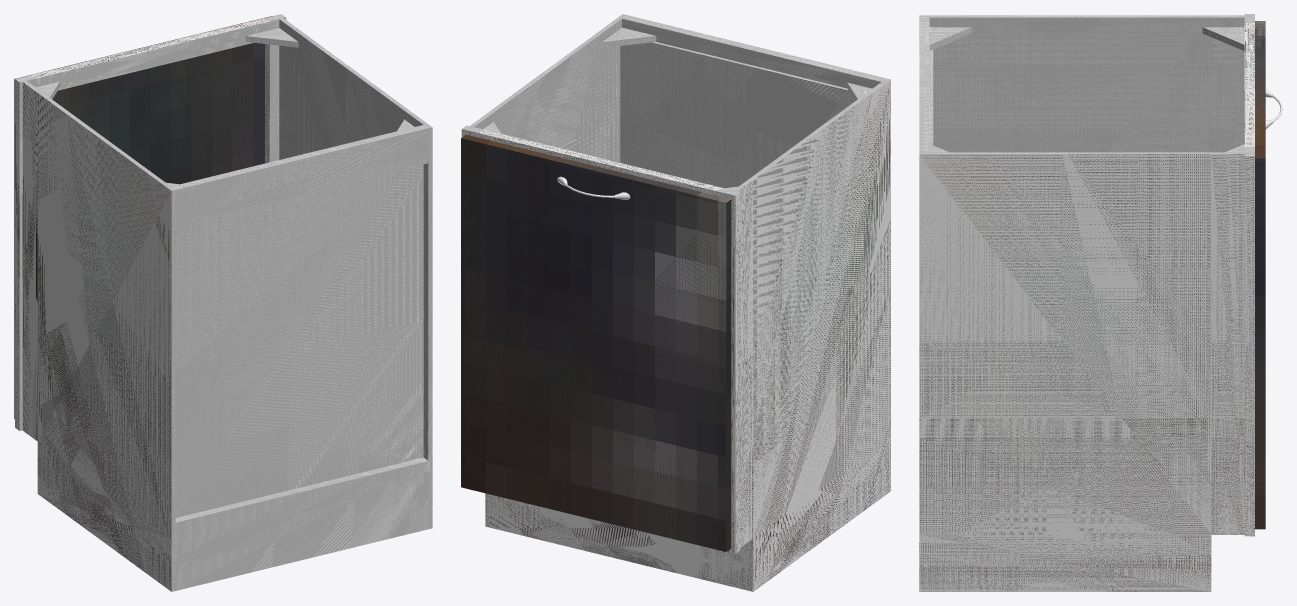
3 renders of one model, left to right at view 1: azimuth 30°, elevation 25°; view 2: azimuth 150°, elevation 25°; view 3: azimuth 270°, elevation 25°, orthographic. The views are drawn at different scales.
Visible parts, largest first — view 1: mesh9_mesh9-geometry, mesh4_mesh4-geometry, mesh18_mesh18-geometry, mesh10_mesh10-geometry, mesh12_mesh12-geometry, mesh17_mesh17-geometry, mesh5_mesh5-geometry, mesh3_mesh3-geometry, mesh2_mesh2-geometry, mesh1_mesh1-geometry, mesh11_mesh11-geometry, mesh6_mesh6-geometry; view 2: mesh18_mesh18-geometry, mesh4_mesh4-geometry, mesh9_mesh9-geometry, mesh12_mesh12-geometry, mesh14_mesh14-geometry, mesh5_mesh5-geometry, mesh3_mesh3-geometry, mesh17_mesh17-geometry, mesh1_mesh1-geometry, mesh2_mesh2-geometry, mesh8_mesh8-geometry; view 3: mesh12_mesh12-geometry, mesh4_mesh4-geometry, mesh13_mesh13-geometry, mesh11_mesh11-geometry, mesh18_mesh18-geometry, mesh1_mesh1-geometry, mesh3_mesh3-geometry, mesh17_mesh17-geometry, mesh2_mesh2-geometry, mesh15_mesh15-geometry, mesh7_mesh7-geometry.
Boxes of the visible parts, left/top/right/bottom form: mesh9_mesh9-geometry: left=175, top=164, right=423, bottom=517; mesh4_mesh4-geometry: left=37, top=92, right=175, bottom=539; mesh18_mesh18-geometry: left=14, top=16, right=272, bottom=418; mesh10_mesh10-geometry: left=175, top=457, right=428, bottom=590; mesh12_mesh12-geometry: left=294, top=29, right=432, bottom=476; mesh17_mesh17-geometry: left=171, top=125, right=428, bottom=224; mesh5_mesh5-geometry: left=37, top=442, right=175, bottom=591; mesh3_mesh3-geometry: left=22, top=81, right=41, bottom=441; mesh2_mesh2-geometry: left=32, top=18, right=269, bottom=90; mesh1_mesh1-geometry: left=15, top=14, right=286, bottom=430; mesh11_mesh11-geometry: left=279, top=18, right=298, bottom=159; mesh6_mesh6-geometry: left=246, top=28, right=298, bottom=47; mesh18_mesh18-geometry: left=461, top=134, right=731, bottom=551; mesh4_mesh4-geometry: left=749, top=78, right=890, bottom=537; mesh9_mesh9-geometry: left=620, top=42, right=854, bottom=188; mesh12_mesh12-geometry: left=485, top=14, right=626, bottom=162; mesh14_mesh14-geometry: left=489, top=494, right=748, bottom=590; mesh5_mesh5-geometry: left=749, top=438, right=890, bottom=591; mesh3_mesh3-geometry: left=734, top=179, right=753, bottom=546; mesh17_mesh17-geometry: left=622, top=15, right=885, bottom=88; mesh1_mesh1-geometry: left=461, top=125, right=740, bottom=553; mesh2_mesh2-geometry: left=479, top=129, right=722, bottom=195; mesh8_mesh8-geometry: left=602, top=27, right=656, bottom=47; mesh12_mesh12-geometry: left=919, top=152, right=1211, bottom=534; mesh4_mesh4-geometry: left=919, top=15, right=1211, bottom=152; mesh13_mesh13-geometry: left=919, top=535, right=1211, bottom=591; mesh11_mesh11-geometry: left=1211, top=152, right=1244, bottom=534; mesh18_mesh18-geometry: left=1255, top=21, right=1265, bottom=529; mesh1_mesh1-geometry: left=1244, top=14, right=1254, bottom=536; mesh3_mesh3-geometry: left=1211, top=15, right=1244, bottom=152; mesh17_mesh17-geometry: left=919, top=17, right=929, bottom=152; mesh2_mesh2-geometry: left=1244, top=23, right=1254, bottom=146; mesh15_mesh15-geometry: left=929, top=27, right=971, bottom=50; mesh7_mesh7-geometry: left=1202, top=27, right=1244, bottom=50.
Size of the model in its own units: 0.4858 by 0.6983 by 0.5257.
